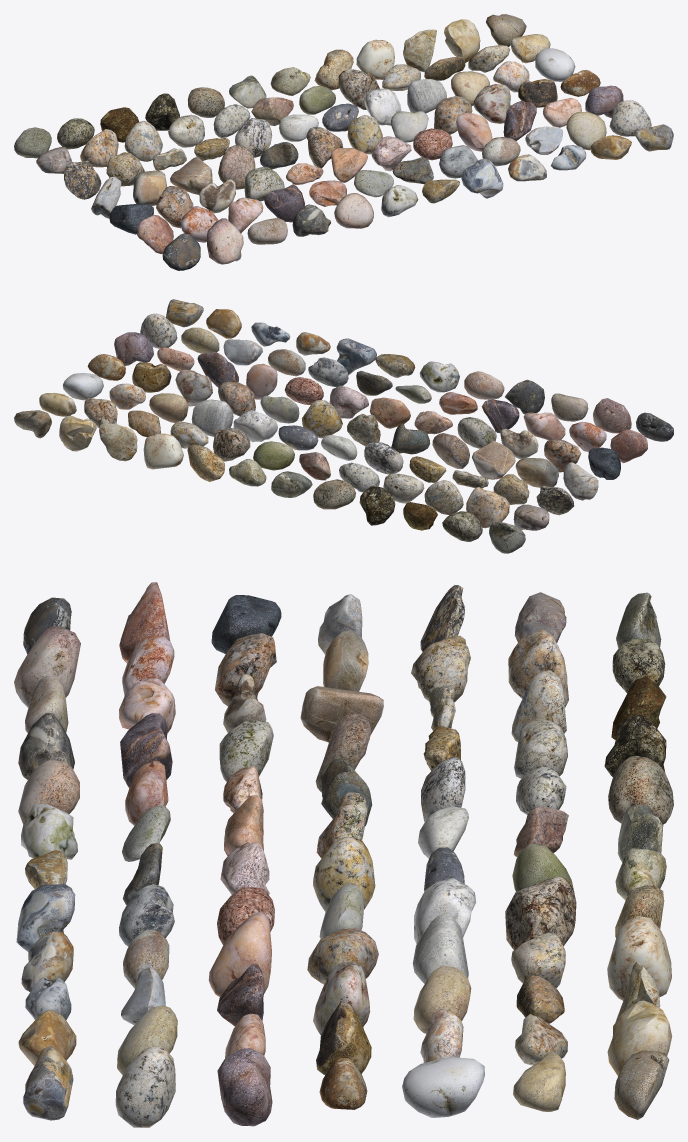
The model's file is lowpoly_rocks_-_free_download.glb.
The picture shows the model from 3 angles, top to bottom: view 1: azimuth 30°, elevation 25°; view 2: azimuth 150°, elevation 25°; view 3: azimuth 270°, elevation 25°; orthographic projection. The views are drawn at different scales.
Visible parts, largest first — view 1: rock080_lod4, rock086_lod4, rock009_lod4, rock011_lod4, rock047_lod4, rock077_lod4, rock083_lod4, rock041_lod4, rock078_lod4, rock015_lod4, rock025_lod4, rock033_lod4 (+72 smaller); view 2: rock014_lod4, rock009_lod4, rock040_lod4, rock033_lod4, rock010_lod4, rock044_lod4, rock004_lod4, rock039_lod4, rock080_lod4, rock064_lod4, rock011_lod4, rock005_lod4 (+72 smaller); view 3: rock036_lod4, rock020_lod4, rock078_lod4, rock009_lod4, rock064_lod4, rock005_lod4, rock080_lod4, rock061_lod4, rock044_lod4, rock011_lod4, rock040_lod4, rock090_lod4 (+72 smaller).
Boxes of the visible parts, x1=… form: rock080_lod4: x1=207, y1=218, x2=243, y2=264; rock086_lod4: x1=461, y1=158, x2=503, y2=198; rock009_lod4: x1=356, y1=39, x2=394, y2=79; rock011_lod4: x1=444, y1=19, x2=480, y2=62; rock047_lod4: x1=473, y1=84, x2=510, y2=123; rock077_lod4: x1=566, y1=111, x2=606, y2=150; rock083_lod4: x1=334, y1=193, x2=373, y2=228; rock041_lod4: x1=218, y1=144, x2=255, y2=189; rock078_lod4: x1=609, y1=100, x2=651, y2=136; rock015_lod4: x1=124, y1=121, x2=162, y2=161; rock025_lod4: x1=63, y1=160, x2=101, y2=199; rock033_lod4: x1=407, y1=79, x2=446, y2=113; rock014_lod4: x1=466, y1=487, x2=509, y2=528; rock009_lod4: x1=143, y1=433, x2=183, y2=469; rock040_lod4: x1=472, y1=441, x2=515, y2=479; rock033_lod4: x1=191, y1=399, x2=233, y2=436; rock010_lod4: x1=99, y1=423, x2=137, y2=461; rock044_lod4: x1=302, y1=400, x2=342, y2=438; rock004_lod4: x1=359, y1=486, x2=395, y2=525; rock039_lod4: x1=515, y1=458, x2=558, y2=487; rock080_lod4: x1=593, y1=398, x2=631, y2=433; rock064_lod4: x1=114, y1=332, x2=153, y2=365; rock011_lod4: x1=59, y1=416, x2=96, y2=451; rock005_lod4: x1=313, y1=479, x2=355, y2=509; rock036_lod4: x1=402, y1=1057, x2=484, y2=1117; rock020_lod4: x1=505, y1=876, x2=576, y2=949; rock078_lod4: x1=115, y1=1046, x2=175, y2=1127; rock009_lod4: x1=607, y1=916, x2=671, y2=1000; rock064_lod4: x1=217, y1=1048, x2=272, y2=1126; rock005_lod4: x1=608, y1=755, x2=673, y2=824; rock080_lod4: x1=14, y1=626, x2=80, y2=707; rock061_lod4: x1=208, y1=912, x2=271, y2=996; rock044_lod4: x1=313, y1=837, x2=375, y2=911; rock011_lod4: x1=607, y1=1000, x2=672, y2=1076; rock040_lod4: x1=300, y1=686, x2=383, y2=742; rock090_lod4: x1=23, y1=1046, x2=73, y2=1120.
Bounding box in the file's own units: 1399 × 109 × 786.
84 materials, 84 textured.
